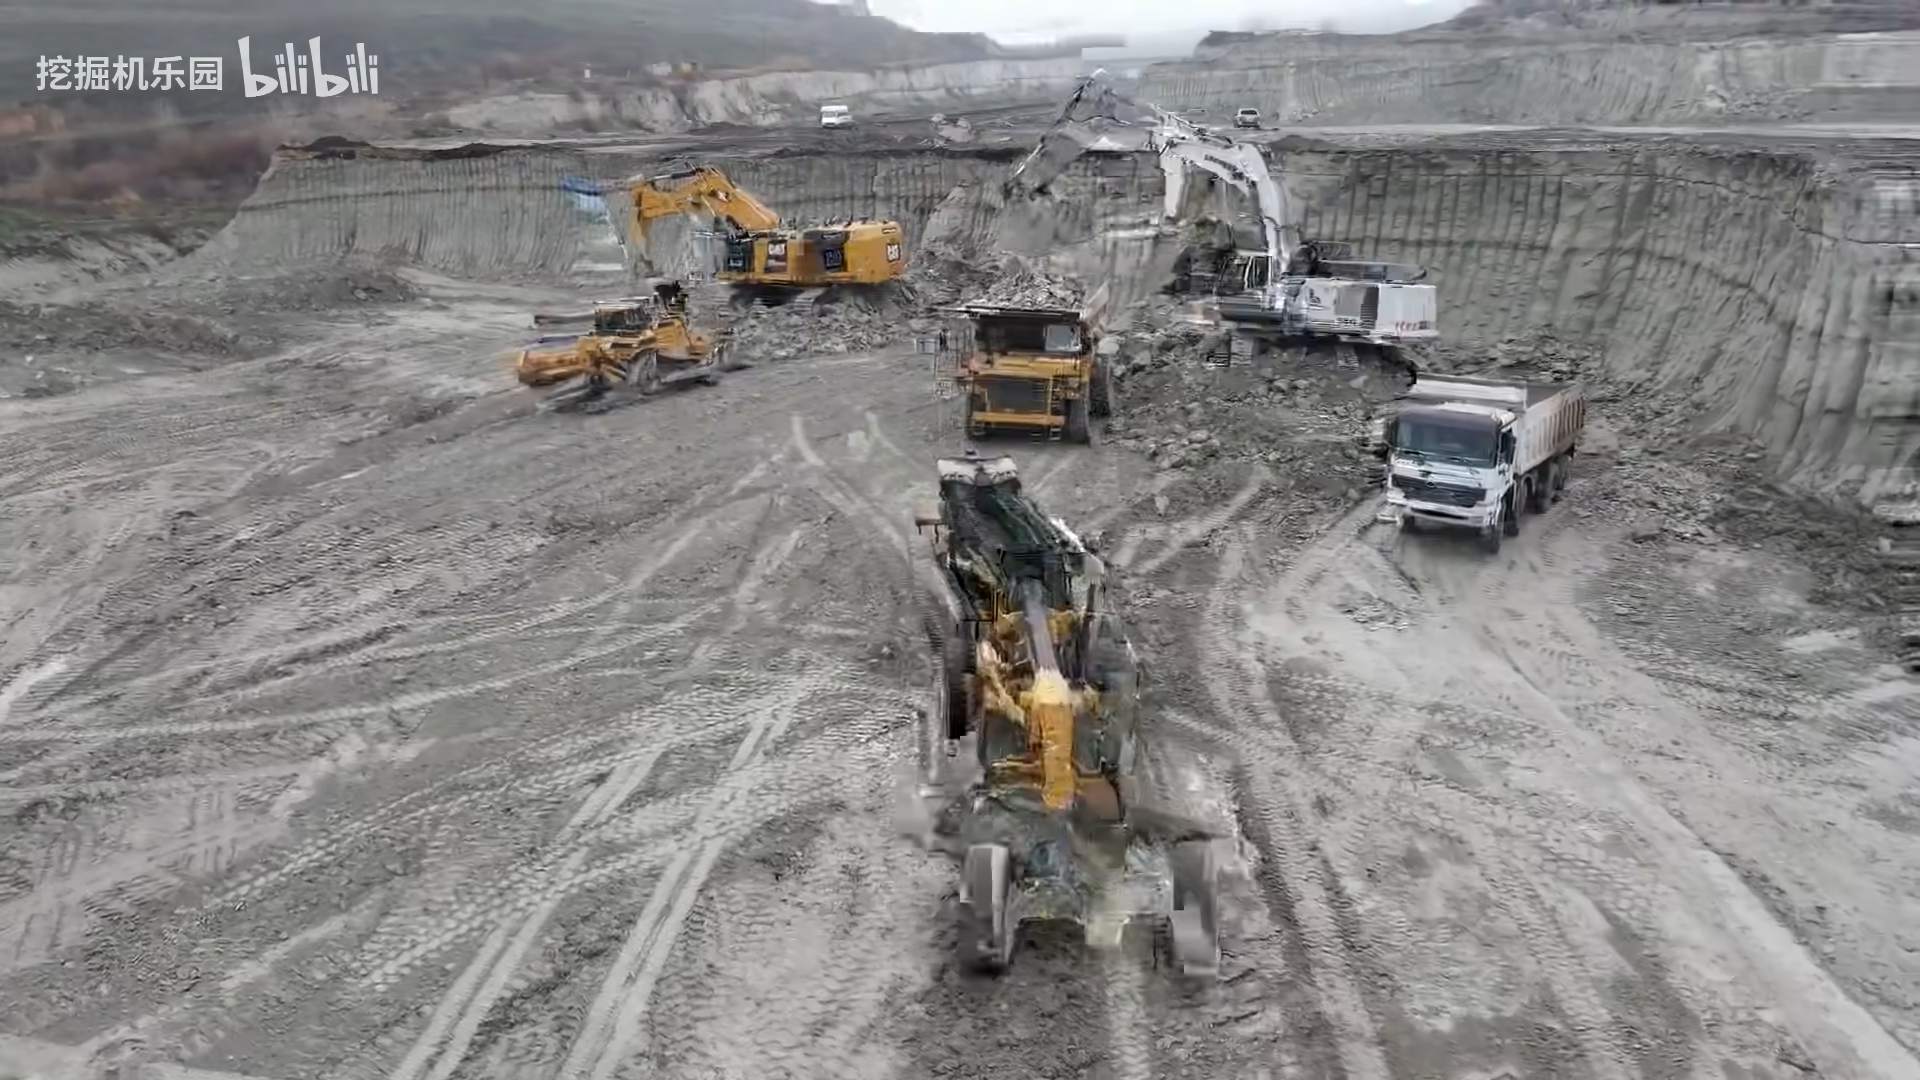excavator: (1138, 103, 1443, 356), (589, 150, 932, 331)
